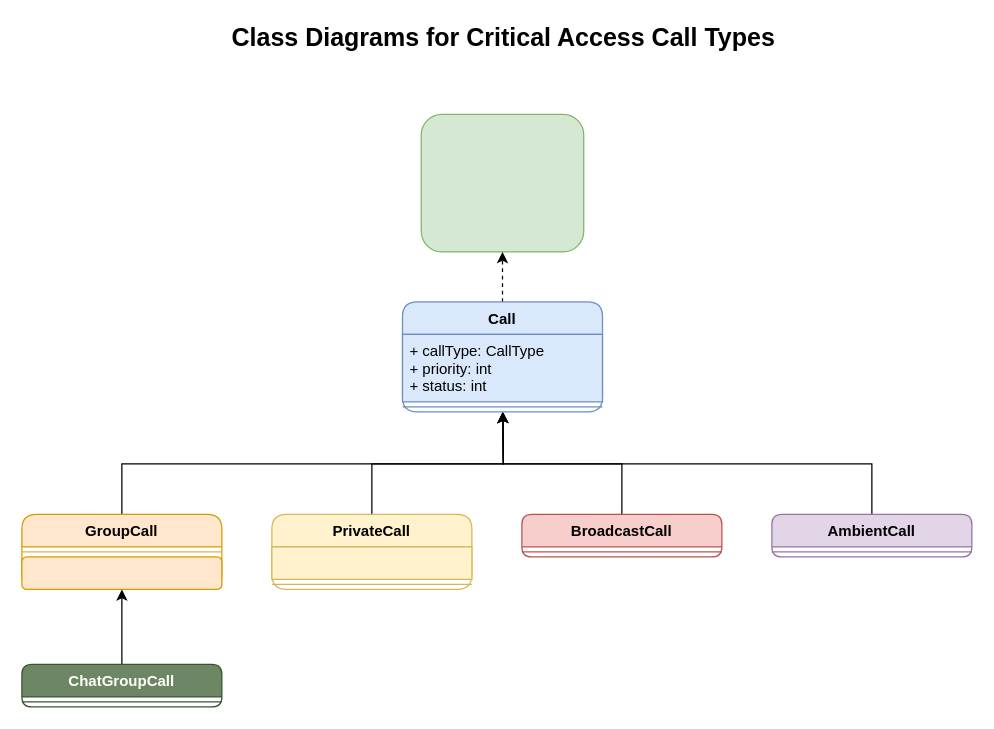
This 994x729 diagram has some shape labels left out. Each missing label, with the centre of its shape:
+ method(type): type: the point at 121,572
+ withFloorControl: boolean: the point at 371,562
<<Interface>> Callable + call(): void + hangup(): void + update(): void: the point at 502,182
